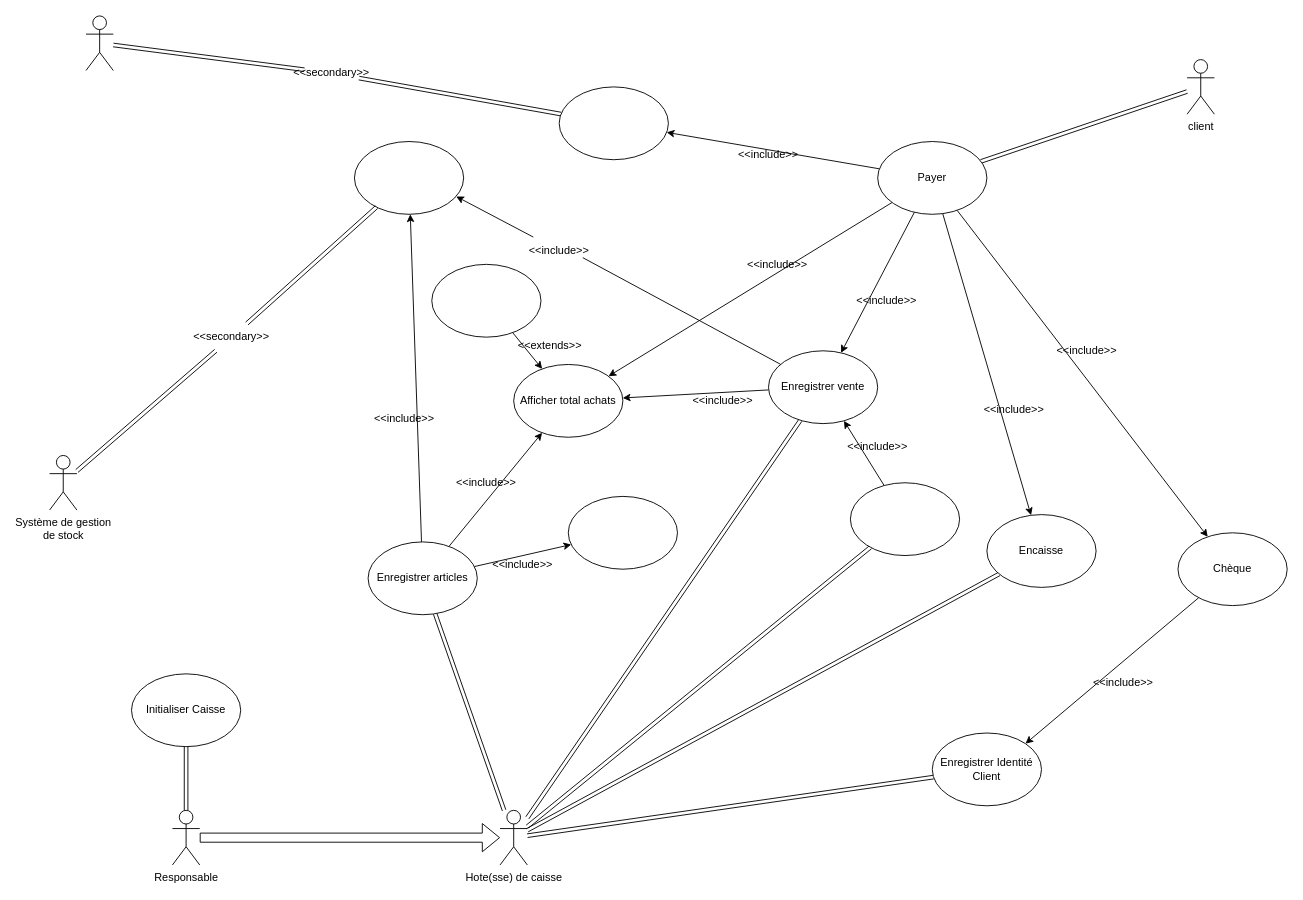
Some shapes in this 1303 by 900 pixel diagram are drawn without their labels. The shapes that lost their labels are listed below. From the top down, each one's box as (x1, y1, x2, y2) in pixels, then its label:
(85, 15, 113, 71): Système Autorisation Bancaire
(558, 86, 668, 160): CB
(354, 141, 464, 214): envoyer Information
(431, 263, 541, 337): Appliquer réduction
(567, 495, 677, 569): Afficher articles
(849, 482, 960, 556): Imprimer ticket
